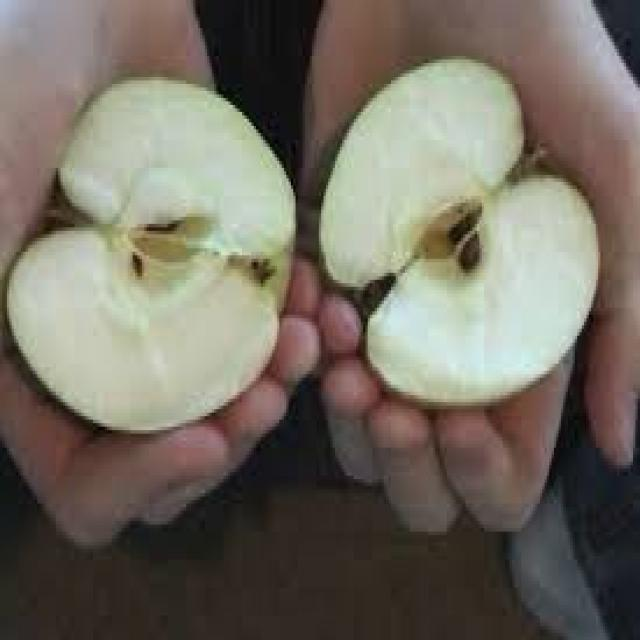Apple: (8, 76, 296, 433), (321, 51, 601, 403)
